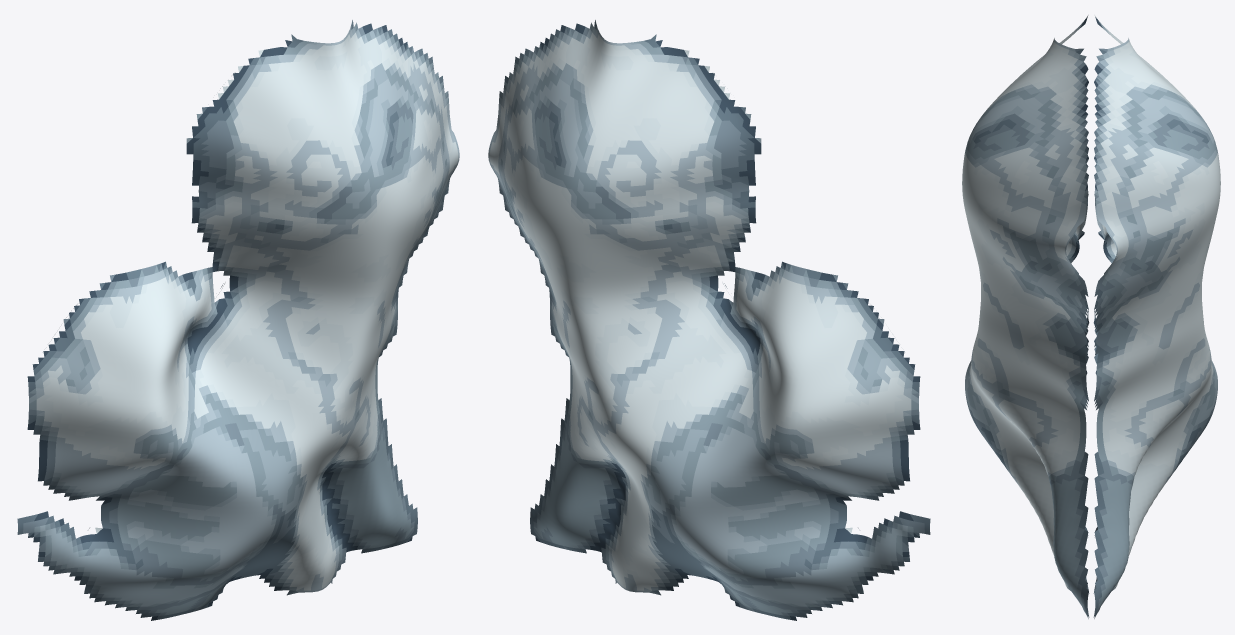
The model's file is onnuriarcanine.glb.
3 renders of one model, left to right at view 1: azimuth 30°, elevation 25°; view 2: azimuth 150°, elevation 25°; view 3: azimuth 270°, elevation 25°, orthographic.
Parts seen in each view (by area): view 1: onnuriarcanine; view 2: onnuriarcanine; view 3: onnuriarcanine.
Part boxes in pixels (<box>): onnuriarcanine: <box>17,20,459,620</box>; onnuriarcanine: <box>488,20,930,620</box>; onnuriarcanine: <box>962,15,1220,618</box>.
Bounding box in the file's own units: 711 × 883 × 367.
